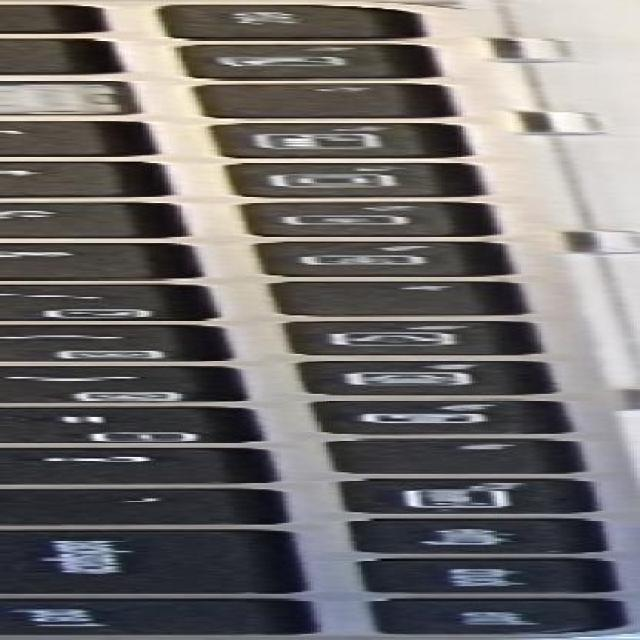Keyboard problems: (0, 82, 135, 114)
